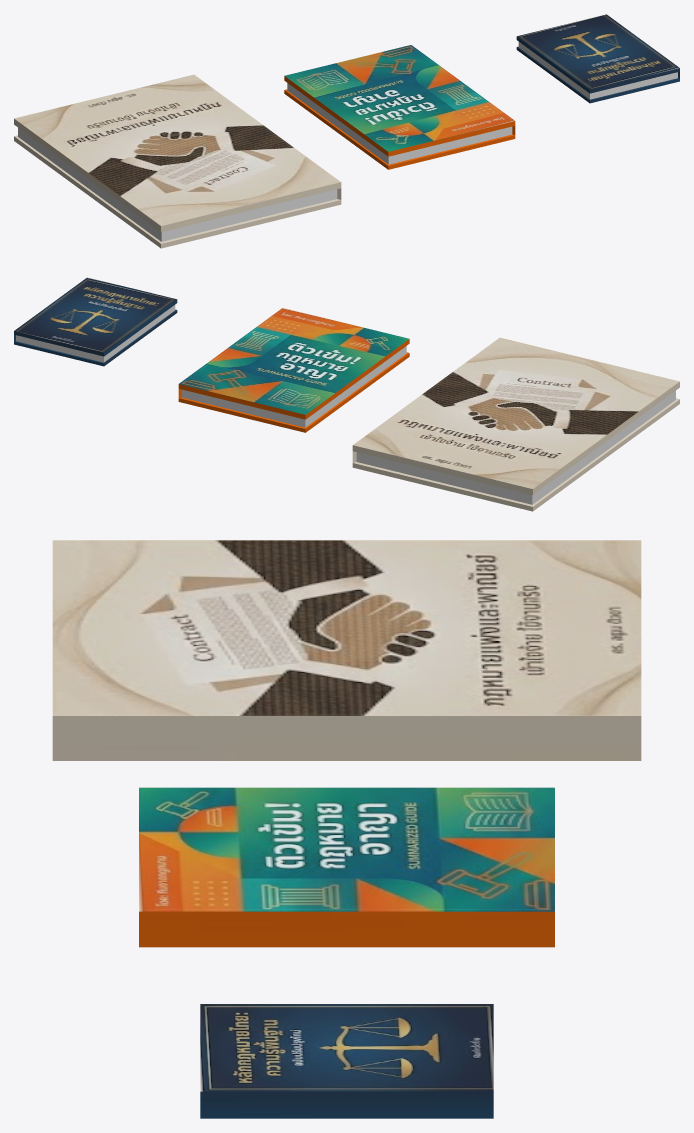
The model's file is Book.fbx.
3 renders of one model, top to bottom at view 1: azimuth 30°, elevation 25°; view 2: azimuth 150°, elevation 25°; view 3: azimuth 270°, elevation 25°, orthographic. The views are drawn at different scales.
Visible parts, largest first — view 1: Cube.002, Cube.001, Cube; view 2: Cube.002, Cube.001, Cube; view 3: Cube.002, Cube.001, Cube.
Part boxes in pixels (x1,y1,x2,y2): Cube.002: (14,74,341,248); Cube.001: (284,45,515,169); Cube: (516,14,679,103); Cube.002: (352,337,679,511); Cube.001: (178,308,409,432); Cube: (14,277,177,366); Cube.002: (52,540,641,760); Cube.001: (139,787,554,947); Cube: (200,1004,493,1118).
Size of the model in its own units: 64.79 by 2.5 by 29.7.
Materials: 6 (3 with a texture image).
